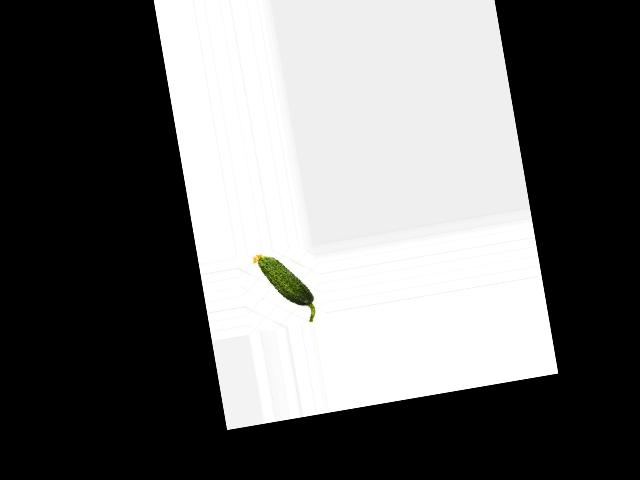cucumber: (251, 246, 317, 329)
